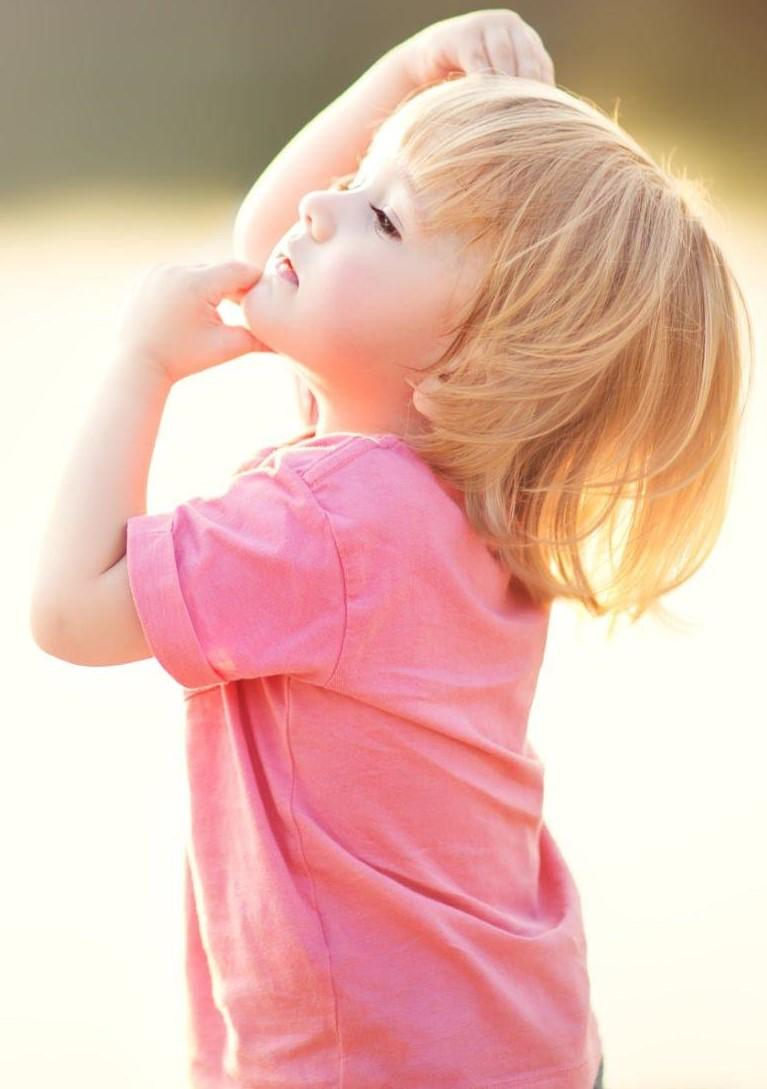Healthy: (248, 81, 523, 405)
